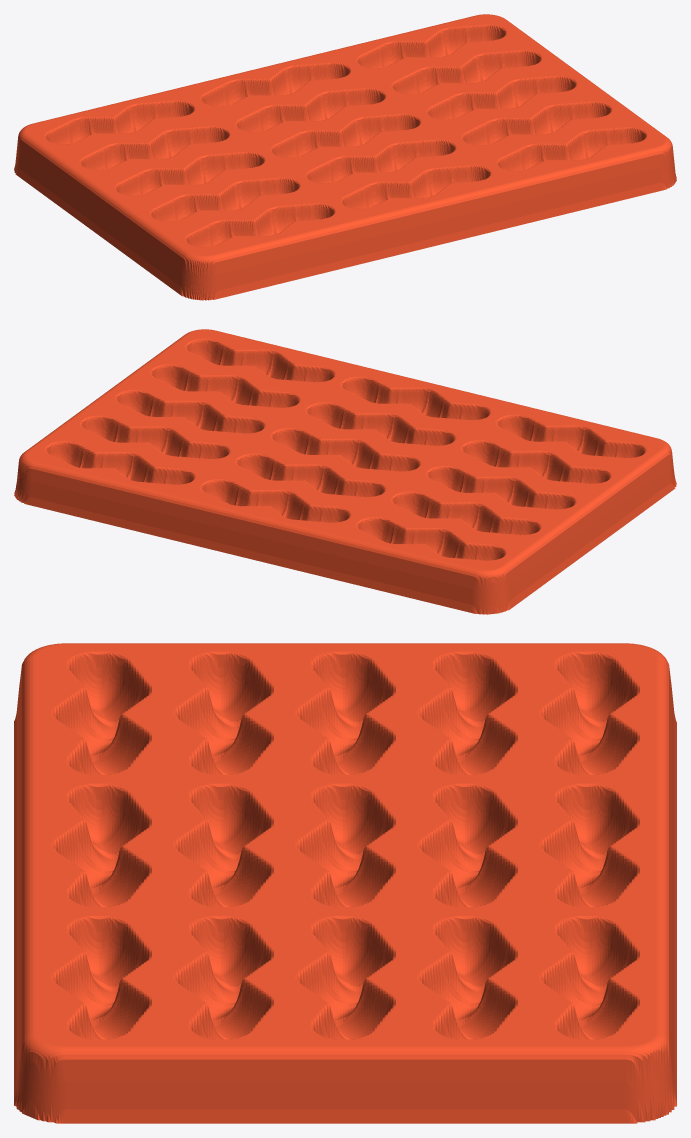
The model's file is mold.glb.
The picture shows the model from 3 angles, top to bottom: view 1: azimuth 30°, elevation 25°; view 2: azimuth 150°, elevation 25°; view 3: azimuth 270°, elevation 25°; orthographic projection. The views are drawn at different scales.
Visible parts, largest first — view 1: geometry_0; view 2: geometry_0; view 3: geometry_0.
Part boxes in pixels (x1,y1,x2,y2): geometry_0: [14, 14, 676, 300]; geometry_0: [14, 329, 676, 614]; geometry_0: [14, 643, 676, 1123].
Bounding box in the file's own units: 0.1767 × 0.0135 × 0.1181.
